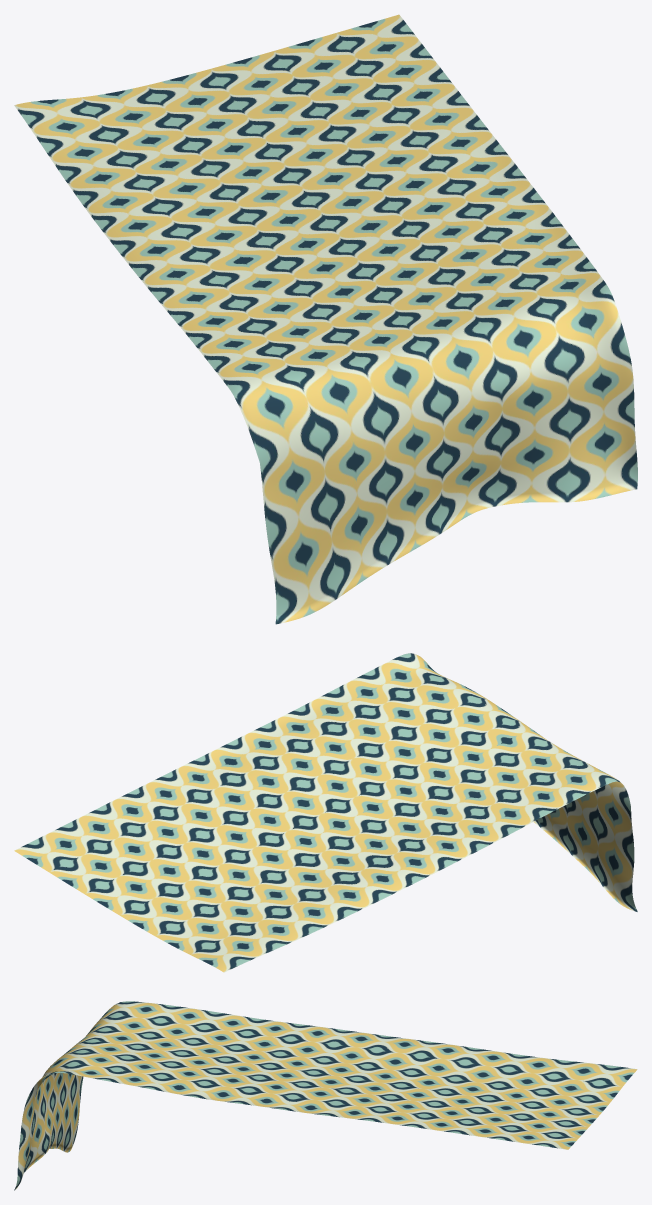
Rendered from table-runner-test-01.glb.
3 renders of one model, top to bottom at view 1: azimuth 30°, elevation 25°; view 2: azimuth 150°, elevation 25°; view 3: azimuth 270°, elevation 25°, orthographic. The views are drawn at different scales.
Visible parts, largest first — view 1: Plane; view 2: Plane; view 3: Plane.
Part boxes in pixels (x1,y1,x2,y2): Plane: (14, 14, 637, 624); Plane: (14, 653, 637, 972); Plane: (14, 1001, 637, 1190).
Size of the model in its own units: 8.69 by 4.45 by 13.9.
1 material, 1 textured.
